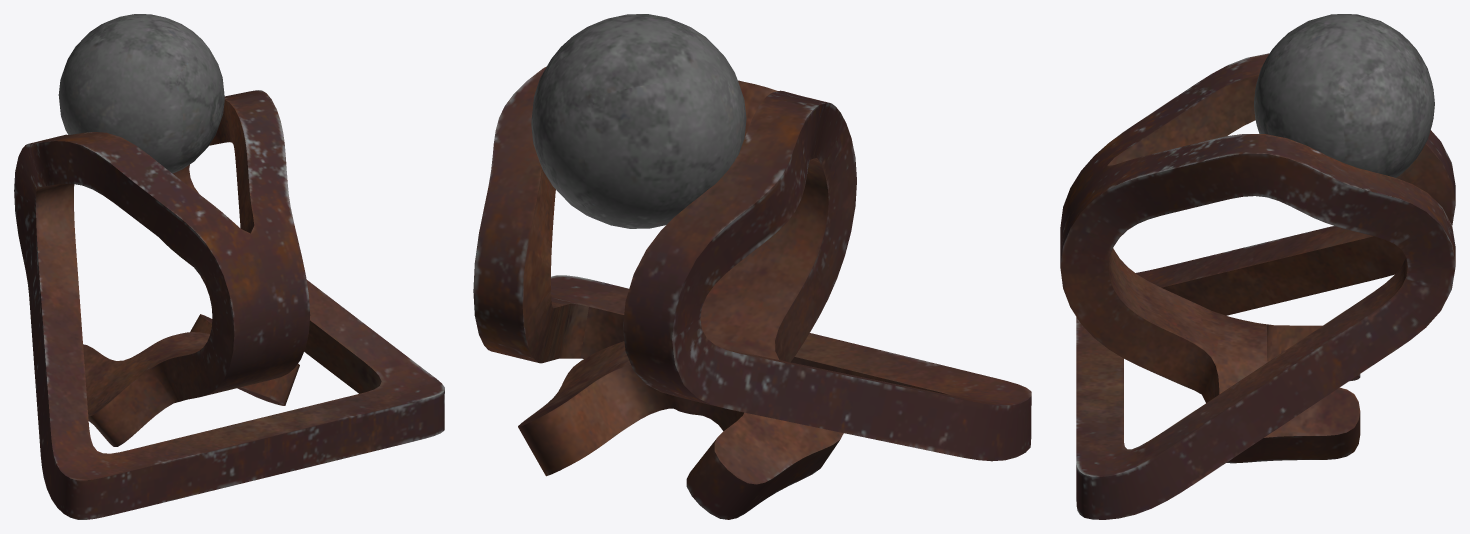
File: Sculpture5.glb
The picture shows the model from 3 angles, left to right: view 1: azimuth 30°, elevation 25°; view 2: azimuth 150°, elevation 25°; view 3: azimuth 270°, elevation 25°; orthographic projection. The views are drawn at different scales.
Parts seen in each view (by area): view 1: SM_Sculpture06; view 2: SM_Sculpture06; view 3: SM_Sculpture06.
Boxes of the visible parts, x1=… form: SM_Sculpture06: x1=14, y1=14, x2=444, y2=519; SM_Sculpture06: x1=473, y1=14, x2=1031, y2=519; SM_Sculpture06: x1=1060, y1=14, x2=1455, y2=519.
Size of the model in its own units: 1.7 by 1.58 by 1.42.
1 material, 1 textured.
